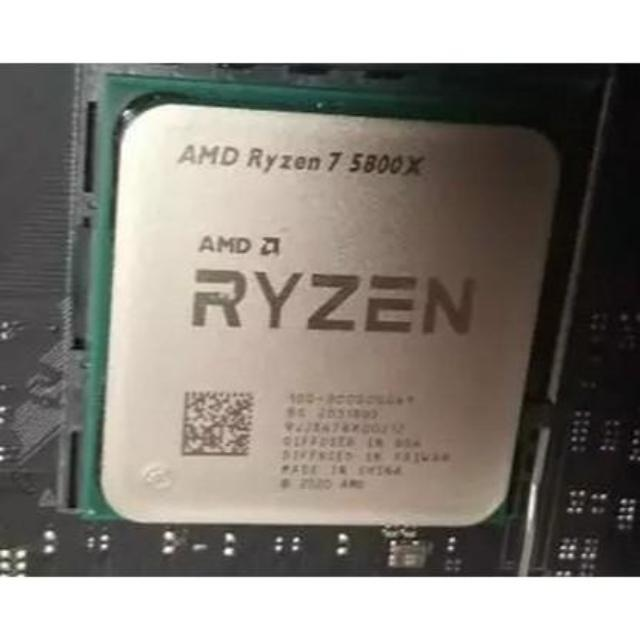CPU: (77, 84, 554, 536)
